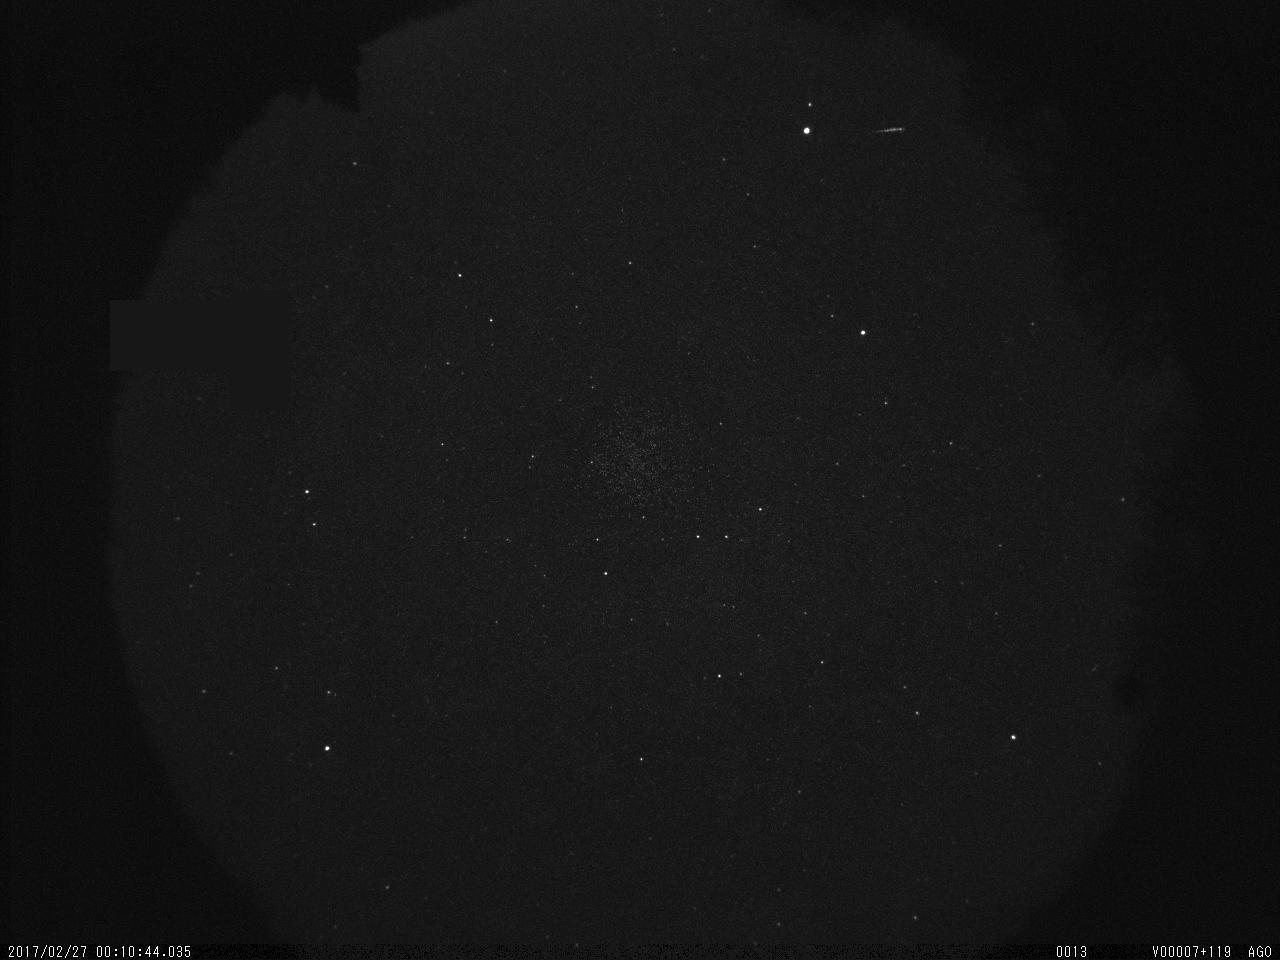meteor: (859, 114, 913, 142)
